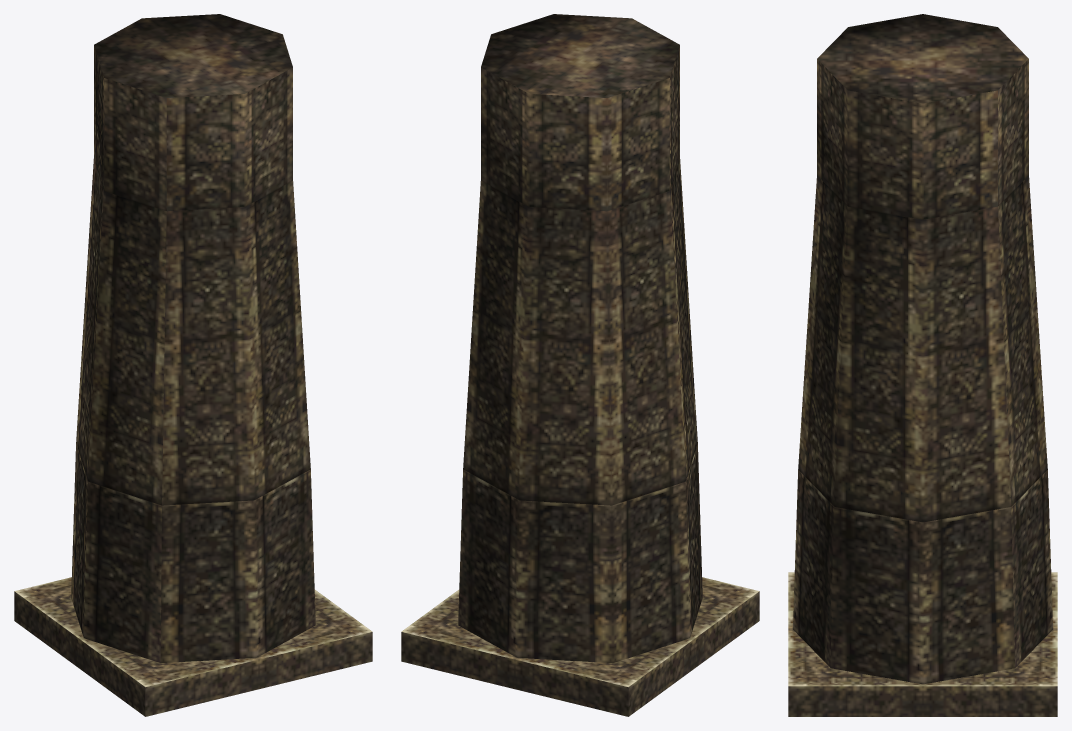
Rendered from general_obj_bigtower10_01.glb.
The picture shows the model from 3 angles, left to right: view 1: azimuth 30°, elevation 25°; view 2: azimuth 150°, elevation 25°; view 3: azimuth 270°, elevation 25°; orthographic projection. The views are drawn at different scales.
Visible parts, largest first — view 1: Sphere01; view 2: Sphere01; view 3: Sphere01.
Boxes of the visible parts, x1,y1,x2,y2 form: Sphere01: (14,14,372,716); Sphere01: (401,14,759,716); Sphere01: (788,14,1057,716).
Bounding box in the file's own units: 4 × 9.84 × 4.
Materials: 1 (1 with a texture image).
